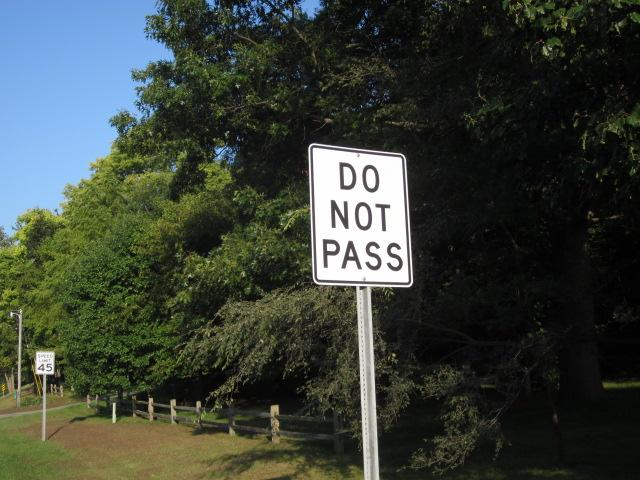regulatory: (305, 143, 417, 292), (35, 351, 57, 377)
